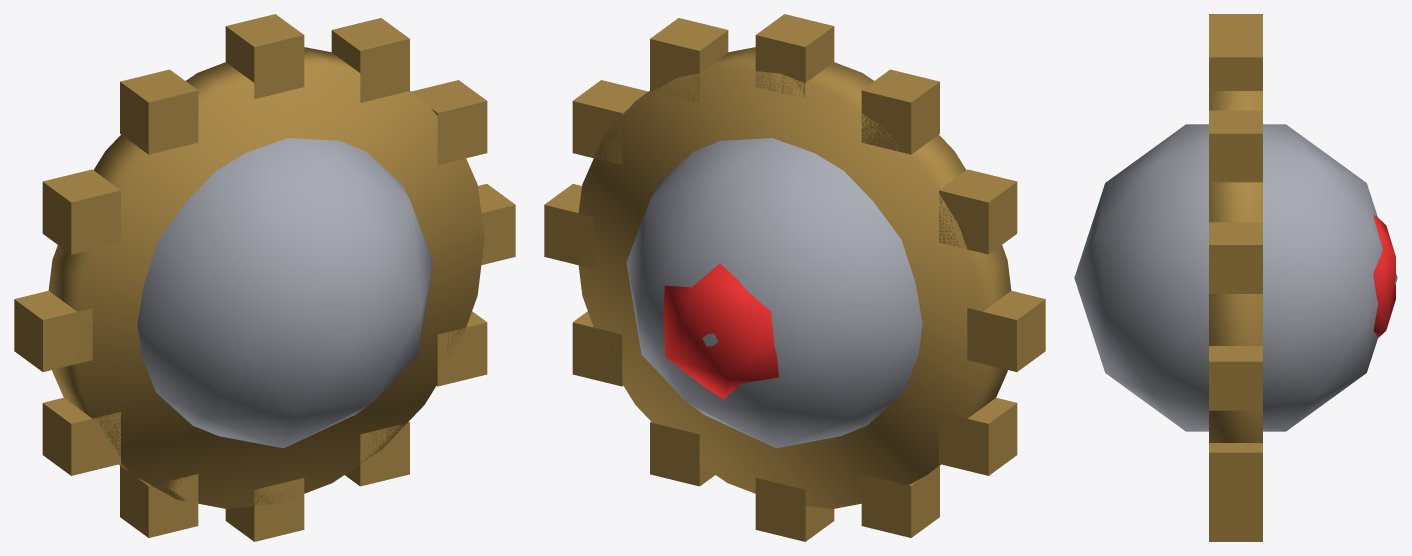
Rendered from mechanical_eye.glb.
3 views of the same model, side by side, from view 1: azimuth 30°, elevation 25°; view 2: azimuth 150°, elevation 25°; view 3: azimuth 270°, elevation 25° (orthographic). The views are drawn at different scales.
Visible parts, largest first — view 1: mechanical_eye_v0; view 2: mechanical_eye_v0; view 3: mechanical_eye_v0.
Boxes of the visible parts, <box> form: mechanical_eye_v0: <box>14,14,515,541</box>; mechanical_eye_v0: <box>544,14,1045,541</box>; mechanical_eye_v0: <box>1074,14,1397,541</box>.
Size of the model in its own units: 0.38 by 0.38 by 0.24.
